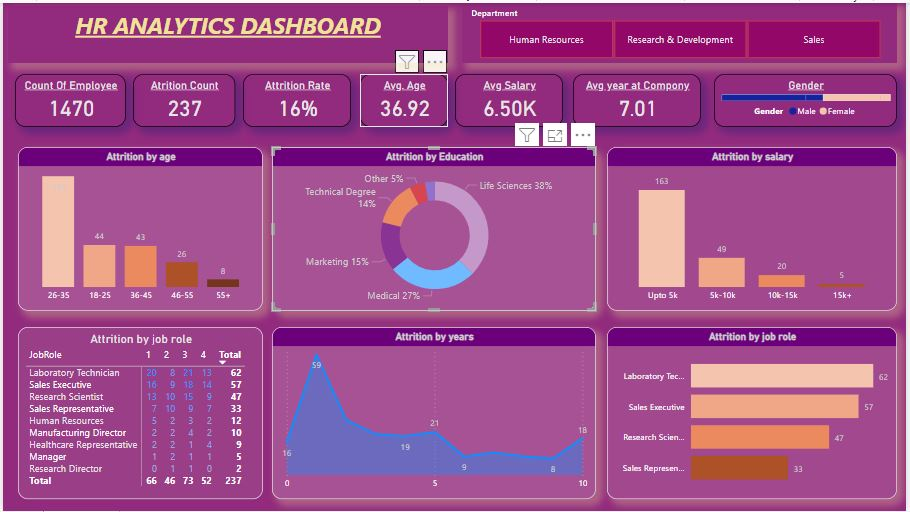

This screenshot's page, from the dashboard's own definition file:
{"tool":"powerbi","page":{"name":"Page 1","canvas":[1280,720],"ordinal":0},"visuals":[{"type":"card","title":"Count Of Employee","fields":{"Values":["CountNonNull(HR_Analytics.EmpID)"]},"box":[17,100.6,157.3,75.1],"z":0},{"type":"card","title":"Atrition Count","fields":{"Values":["Sum(HR_Analytics.Attritioncount)"]},"box":[184.3,100.6,144.6,75.1],"z":1000},{"type":"card","title":"Attrition Rate","fields":{"Values":["HR_Analytics.attrition rate"]},"box":[340.2,100.6,153.1,75.1],"z":2000},{"type":"card","title":"Avg. Age","fields":{"Values":["Avg(HR_Analytics.Age)"]},"box":[506,100.6,124.7,75.1],"z":3000},{"type":"card","title":"Avg  year at Compony","fields":{"Values":["Avg(HR_Analytics.YearsAtCompany)"]},"box":[807.9,100.6,181.4,75.1],"z":4000},{"type":"card","title":"Avg Salary","fields":{"Values":["Avg(HR_Analytics.MonthlyIncome)"]},"box":[640.6,100.6,153.1,75.1],"z":5000},{"type":"treemap","title":"Gender","fields":{"Values":["CountNonNull(HR_Analytics.EmpID)"],"Group":["HR_Analytics.Gender"],"Details":["HR_Analytics.Attritioncount"]},"box":[1007.7,100.6,259.4,75.1],"z":6000},{"type":"donutChart","title":" Attrition by Education","fields":{"Category":["HR_Analytics.EducationField"],"Y":["Sum(HR_Analytics.Attritioncount)"]},"box":[381.3,204.1,459.2,232.4],"z":7000},{"type":"columnChart","title":" Attrition by age","fields":{"Category":["HR_Analytics.AgeGroup"],"Y":["Sum(HR_Analytics.Attritioncount)"]},"box":[21.3,204.1,347.2,232.4],"z":8000},{"type":"pivotTable","title":"Attrition by  job role","fields":{"Rows":["HR_Analytics.JobRole"],"Columns":["HR_Analytics.JobSatisfaction"],"Values":["Sum(HR_Analytics.Attritioncount)"]},"box":[21.3,459.2,347.2,243.8],"z":9000},{"type":"clusteredColumnChart","title":" Attrition by salary","fields":{"Category":["HR_Analytics.SalarySlab"],"Y":["Sum(HR_Analytics.Attritioncount)"]},"box":[856.1,204.1,411,232.4],"z":10000},{"type":"clusteredBarChart","title":" Attrition by job role","fields":{"Category":["HR_Analytics.JobRole"],"Y":["Sum(HR_Analytics.Attritioncount)"]},"box":[856.1,459.2,411,243.8],"z":11000},{"type":"areaChart","title":" Attrition by years","fields":{"Category":["HR_Analytics.YearsAtCompany"],"Y":["Sum(HR_Analytics.Attritioncount)"]},"box":[381.3,459.2,459.2,243.8],"z":12000},{"type":"slicer","fields":{"Values":["HR_Analytics.Department"]},"box":[663.3,19.8,603.8,49.6],"z":13000},{"type":"textbox","box":[17,19.8,623.6,80.8],"z":14000}]}

Visuals, with their boxes in screenshot pixels (x1, y1, x2, y2), scaled from the page's 1280x720 canvas onto the 910x512 screenshot:
"Count Of Employee" card: BBox(12, 72, 124, 125)
"Atrition Count" card: BBox(131, 72, 234, 125)
"Attrition Rate" card: BBox(242, 72, 351, 125)
"Avg. Age" card: BBox(360, 72, 448, 125)
"Avg  year at Compony" card: BBox(574, 72, 703, 125)
"Avg Salary" card: BBox(455, 72, 564, 125)
"Gender" treemap: BBox(716, 72, 901, 125)
" Attrition by Education" donutChart: BBox(271, 145, 598, 310)
" Attrition by age" columnChart: BBox(15, 145, 262, 310)
"Attrition by  job role" pivotTable: BBox(15, 327, 262, 500)
" Attrition by salary" clusteredColumnChart: BBox(609, 145, 901, 310)
" Attrition by job role" clusteredBarChart: BBox(609, 327, 901, 500)
" Attrition by years" areaChart: BBox(271, 327, 598, 500)
slicer - HR_Analytics.Department: BBox(472, 14, 901, 49)
textbox: BBox(12, 14, 455, 72)
